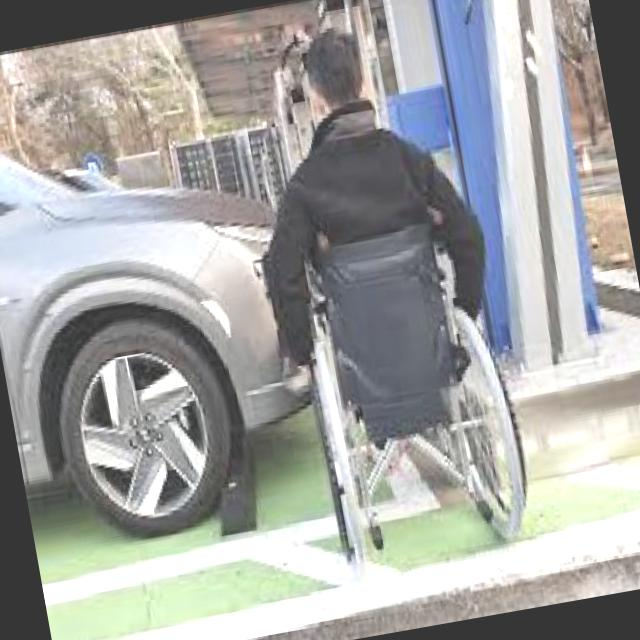Person: (235, 17, 540, 567)
